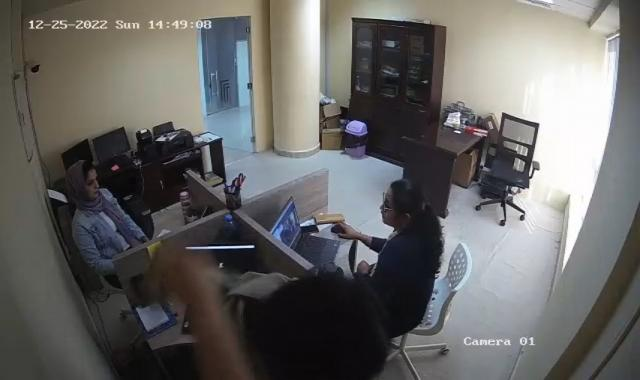no_hairnet: (267, 275, 386, 380), (383, 179, 426, 228), (67, 162, 100, 200)
